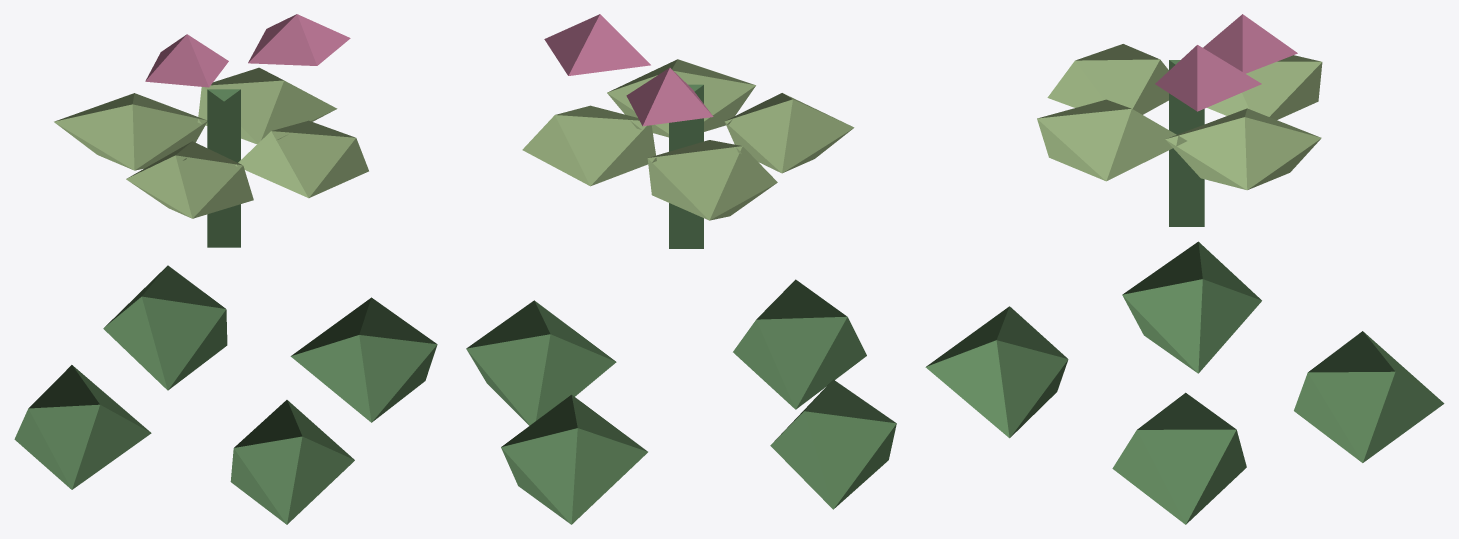
File: water.trop.lotus__summer.glb
3 views of the same model, side by side, from view 1: azimuth 30°, elevation 25°; view 2: azimuth 150°, elevation 25°; view 3: azimuth 270°, elevation 25° (orthographic). The views are drawn at different scales.
Parts seen in each view (by area): view 1: water.trop.lotus__summer; view 2: water.trop.lotus__summer; view 3: water.trop.lotus__summer.
Part boxes in pixels (<box>): water.trop.lotus__summer: <box>14,14,437,524</box>; water.trop.lotus__summer: <box>466,14,896,524</box>; water.trop.lotus__summer: <box>925,14,1444,524</box>.
Size of the model in its own units: 1.09 by 1.06 by 1.12.
